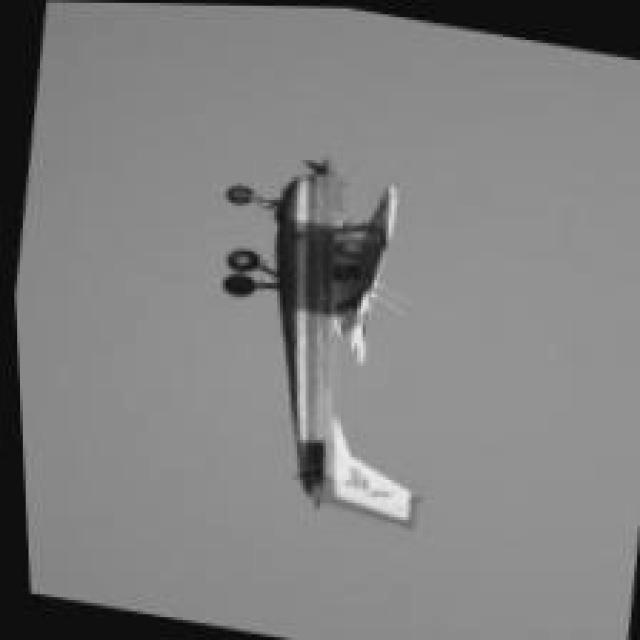aeroplane: (151, 128, 486, 554)
